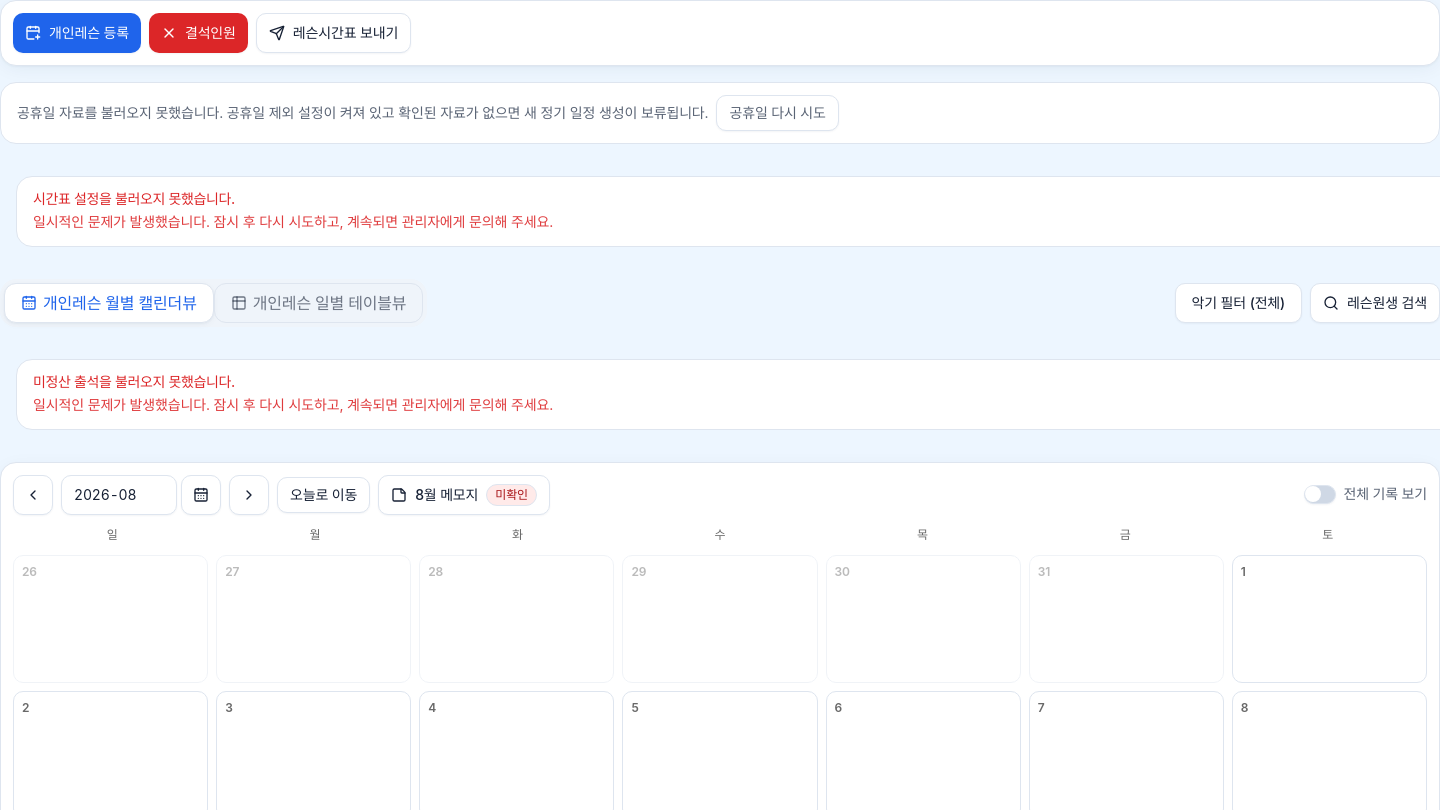
it: 월별 메모지 (실서비스 경로) › 학원·레슨 종류·월 기준으로 불러와 미확인 메모를 보여 주고 확인하면 서버에 반영한다
Expected: the text "미확인" is shown, [486, 484, 537, 506]
What coordinates should you click on to do the following:
click the button "8월 메모지 미확인"
I would click on:
 (464, 494)
Its box is [378, 474, 550, 514].
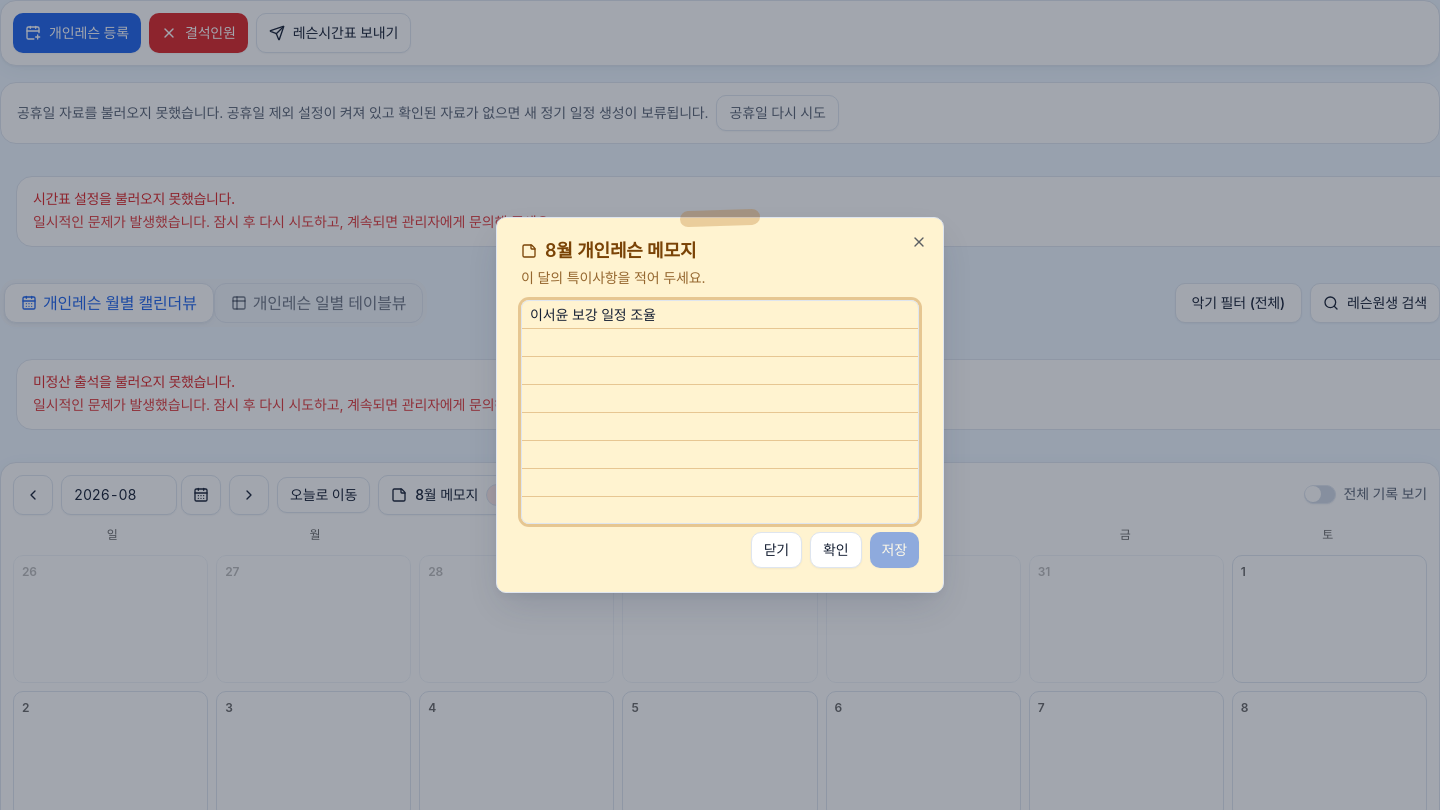
Expected: the text box showing "이서윤 보강 일정 조율" is shown, [521, 300, 919, 524]
What coordinates should you click on to do the following:
click the button "확인"
I would click on:
 (836, 550)
Its box is [810, 532, 862, 568].
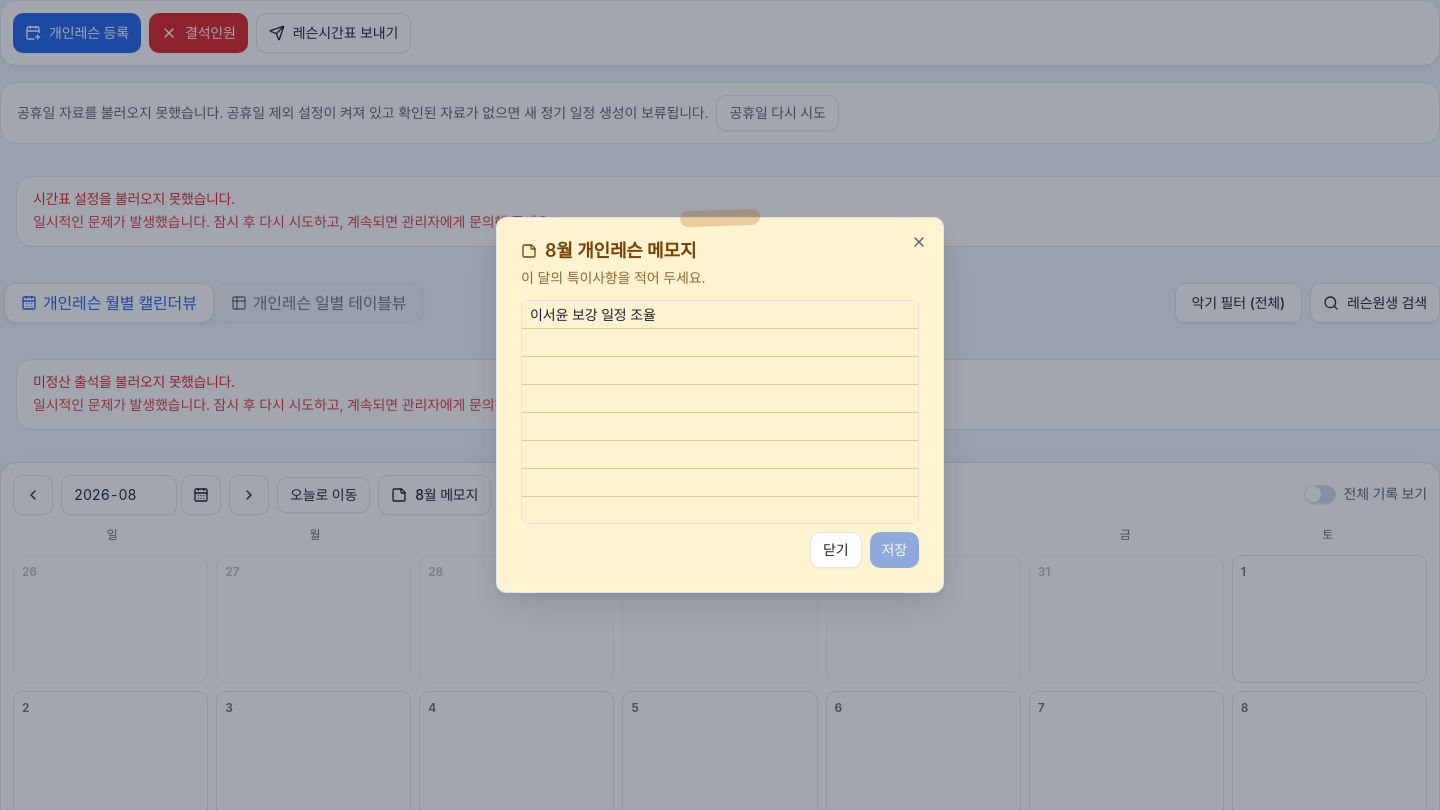
Expected: the text "미확인" is gone
